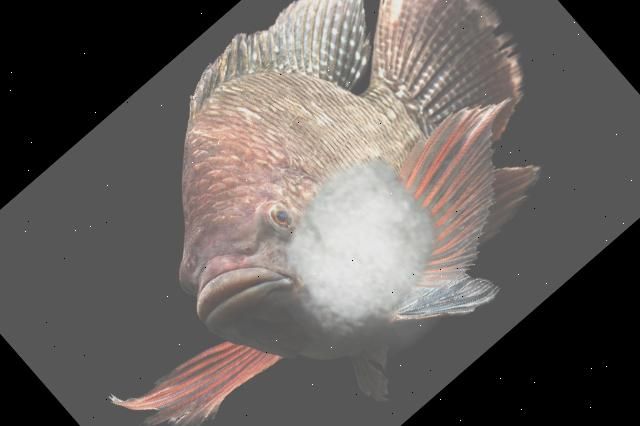Fungal Disease -Saprolegniasis-: (113, 0, 539, 426)
